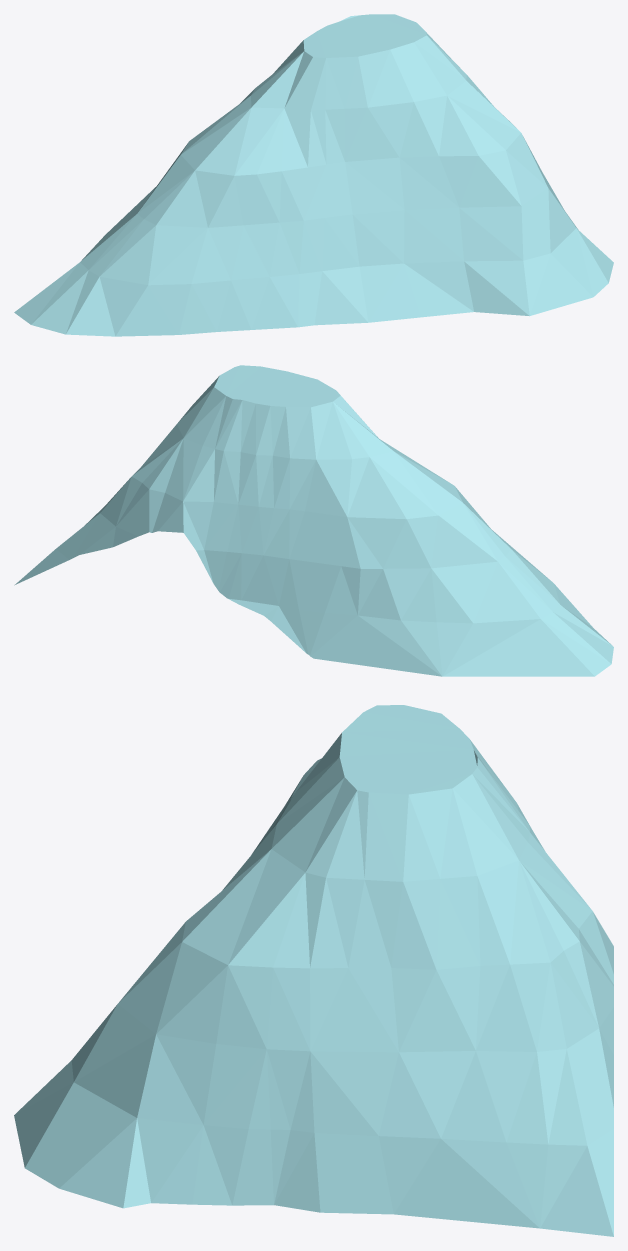
3 views of the same model, one above another, from view 1: azimuth 30°, elevation 25°; view 2: azimuth 150°, elevation 25°; view 3: azimuth 270°, elevation 25° (orthographic). The views are drawn at different scales.
Visible parts, largest first — view 1: 对象020; view 2: 对象020; view 3: 对象020.
Part boxes in pixels (x1,y1,x2,y2): 对象020: (14,14,613,336); 对象020: (14,365,613,676); 对象020: (14,705,613,1236).
Size of the model in its own units: 27.41 by 9.94 by 16.39.
1 material, 1 textured.
